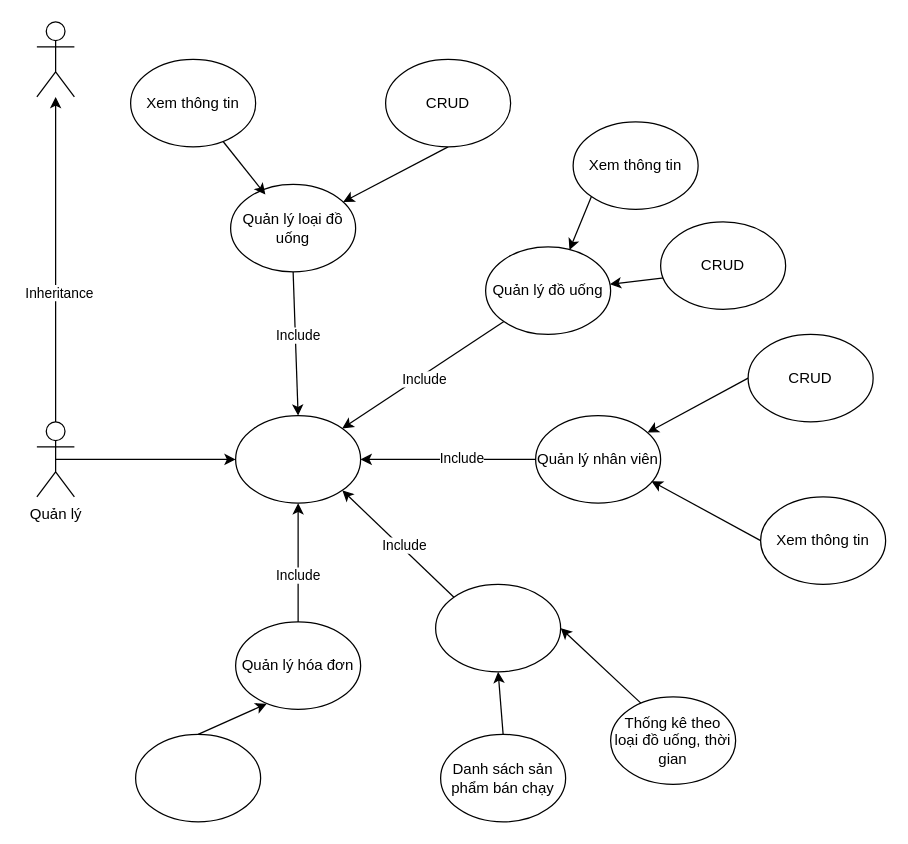
Image size: 908x844. Some labels were removed from this diagram. Here are the shapes that lost their labels. From the top down, the centre of each, then its label:
(x=55, y=59): Nhân viên
(x=297, y=458): Đăng nhập
(x=497, y=627): Xem báo cáo
(x=197, y=777): Xem hóa đơn theo loại đồ uống, ngày
